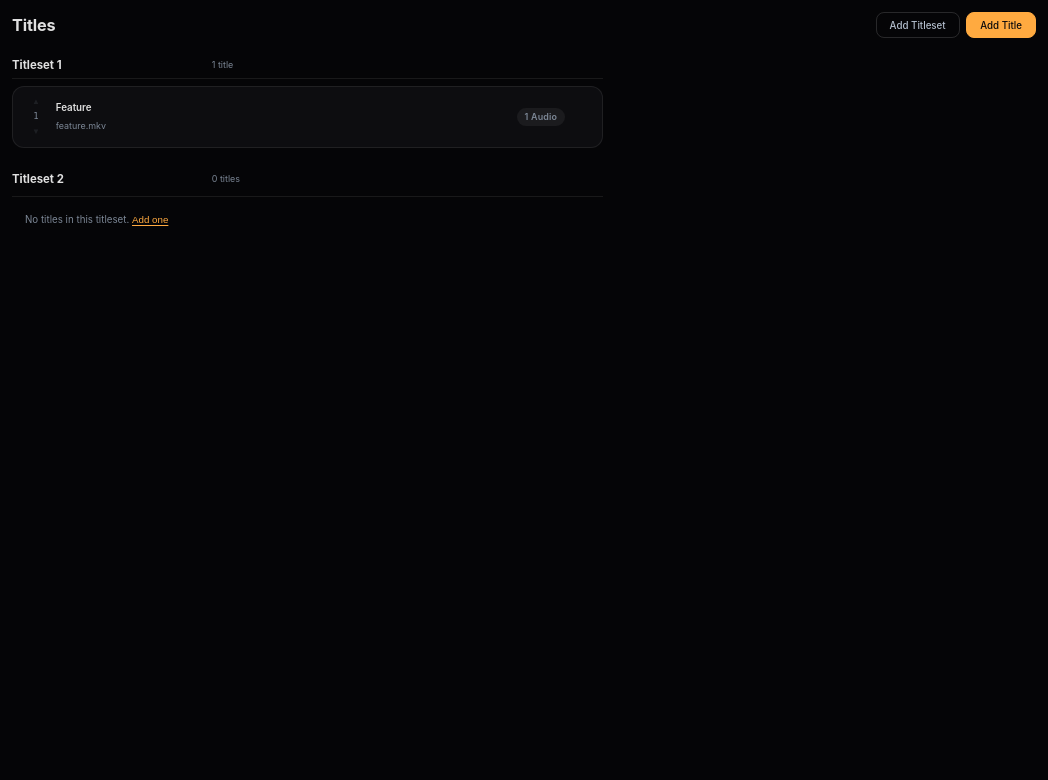
Test: TitlesPage › audio track bitrate control › disables the bitrate control for LPCM tracks
Click the text "Feature".
click(74, 108)  # box [56,102,92,113]
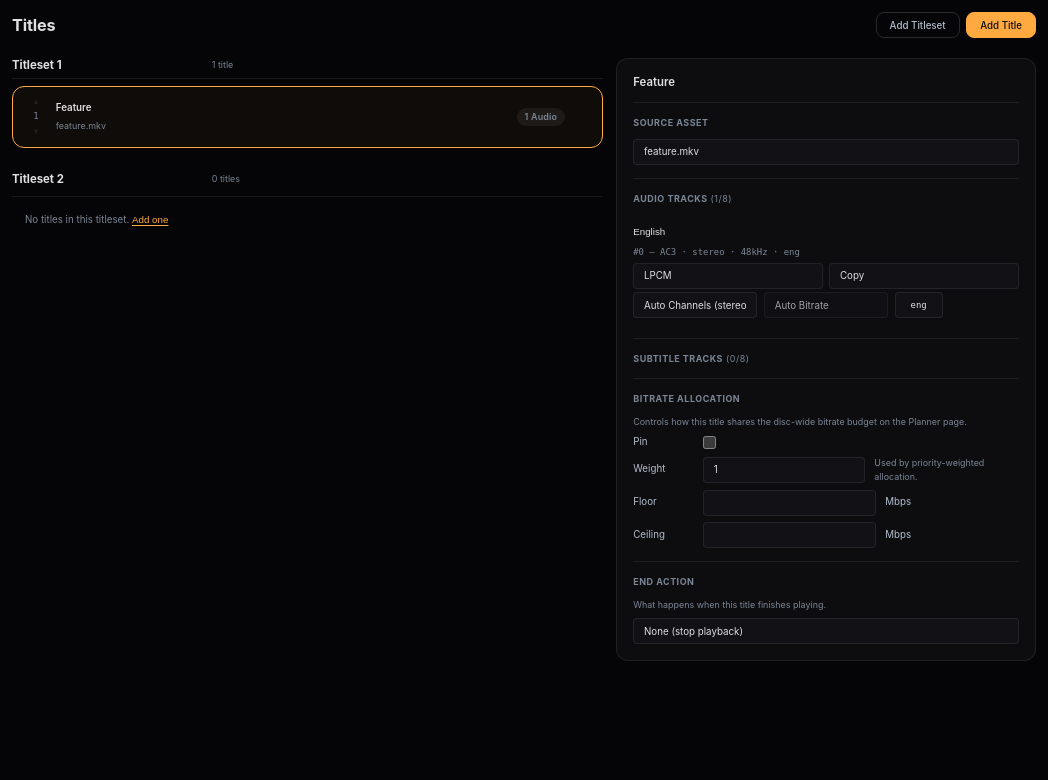
Expected: the dropdown titled "LPCM's bitrate is derived from its channel count and sample" is disabled, [764,292,888,318]
